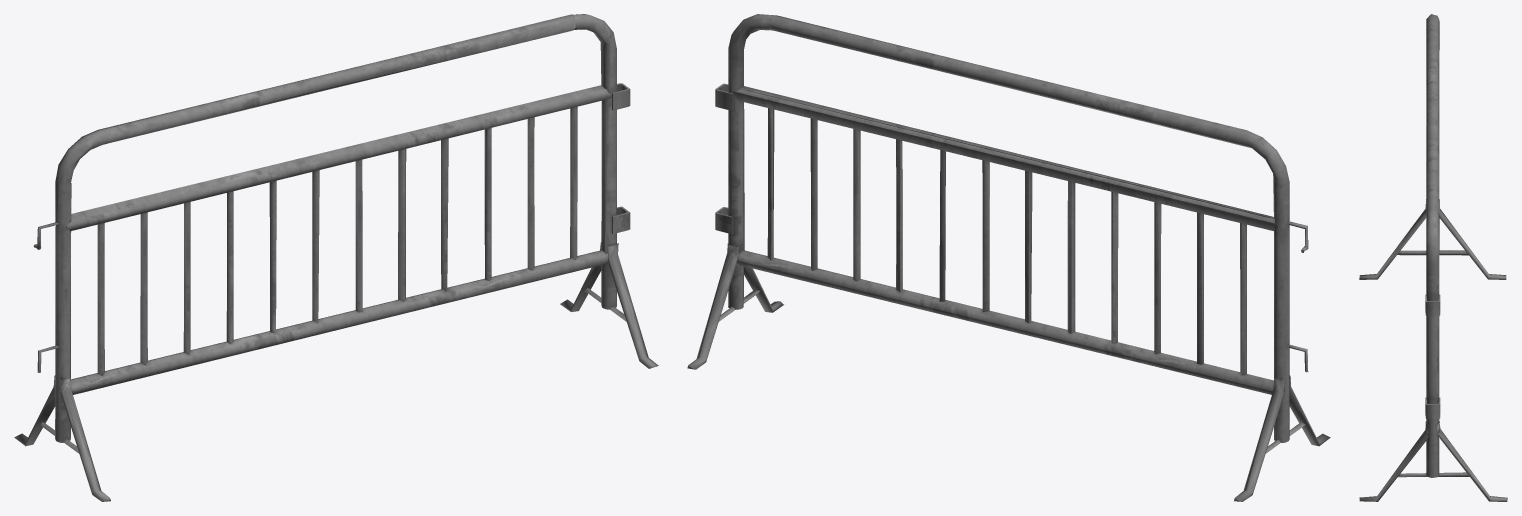
File: steel_road_barrier.glb
The picture shows the model from 3 angles, left to right: view 1: azimuth 30°, elevation 25°; view 2: azimuth 150°, elevation 25°; view 3: azimuth 270°, elevation 25°; orthographic projection. The views are drawn at different scales.
Visible parts, largest first — view 1: steel_road_barrier.001; view 2: steel_road_barrier.001; view 3: steel_road_barrier.001.
Boxes of the visible parts, bbox=[...] form: steel_road_barrier.001: bbox=[14, 14, 658, 501]; steel_road_barrier.001: bbox=[687, 14, 1330, 501]; steel_road_barrier.001: bbox=[1359, 14, 1507, 501].
Bounding box in the file's own units: 2.16 × 1.16 × 0.5637.
1 material, 1 textured.
